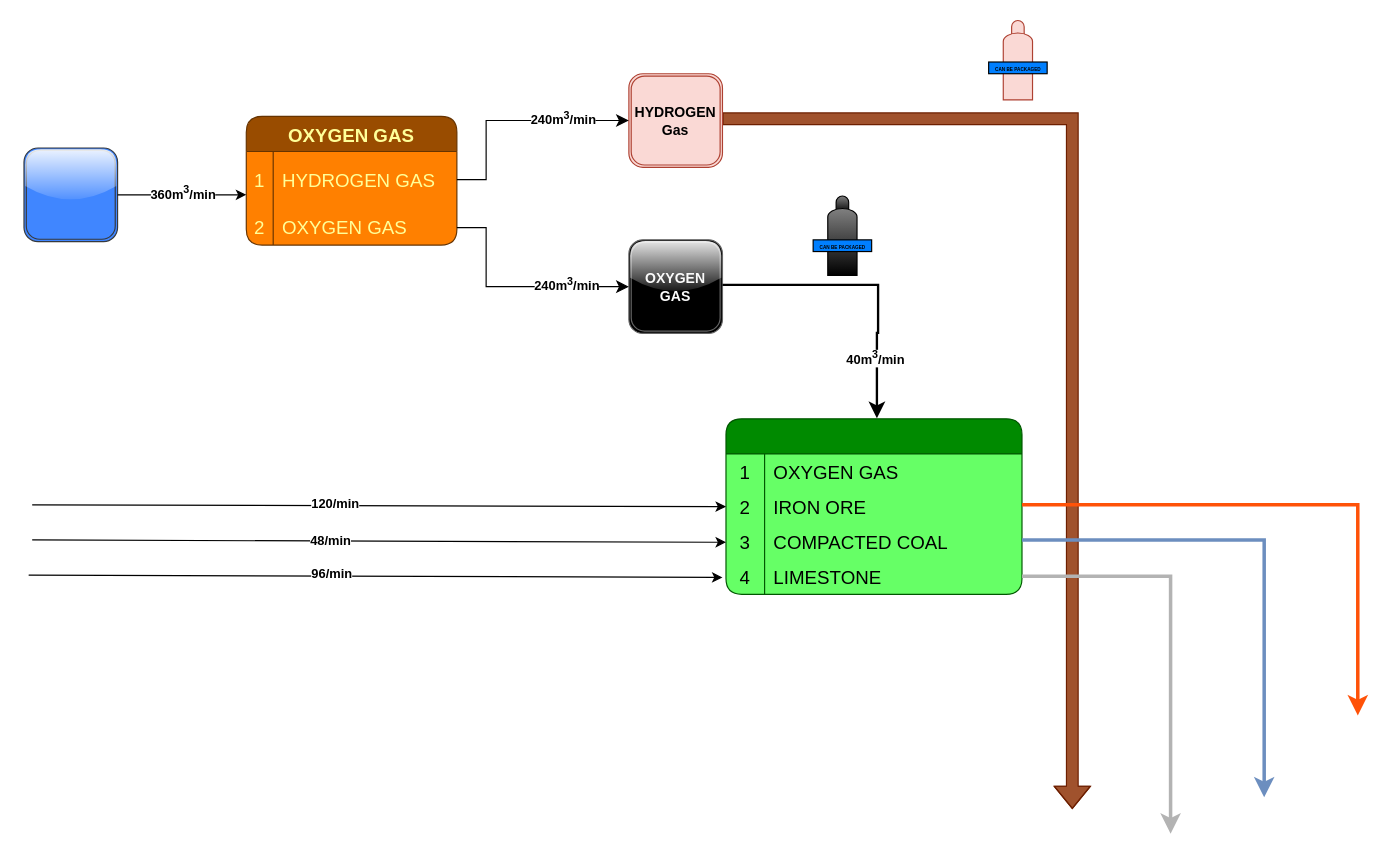
This 1391x867 diagram has some shape labels left out. Each missing label, with the box of its shape:
Refined Iron Ingots: (725, 418, 1022, 594)
WATER: (23, 147, 118, 242)
